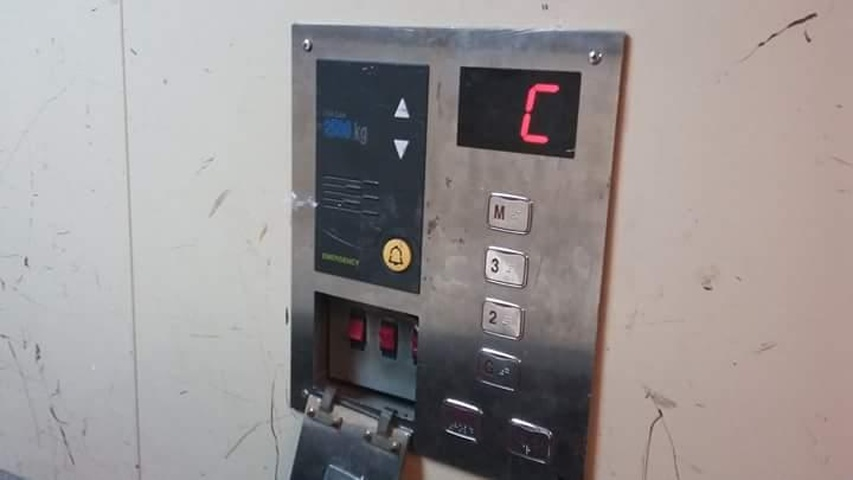2: (478, 297, 529, 344)
3: (483, 247, 532, 290)
G: (475, 346, 525, 395)
M: (486, 188, 537, 238)
alarm: (380, 234, 415, 274)
blur: (503, 417, 556, 468), (439, 397, 486, 446)
led: (452, 63, 584, 161)
switch: (344, 305, 370, 354), (376, 313, 402, 362)
